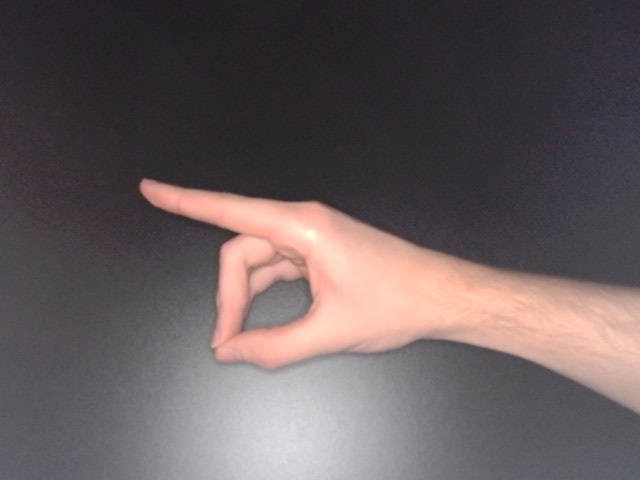p: (134, 175, 491, 376)
